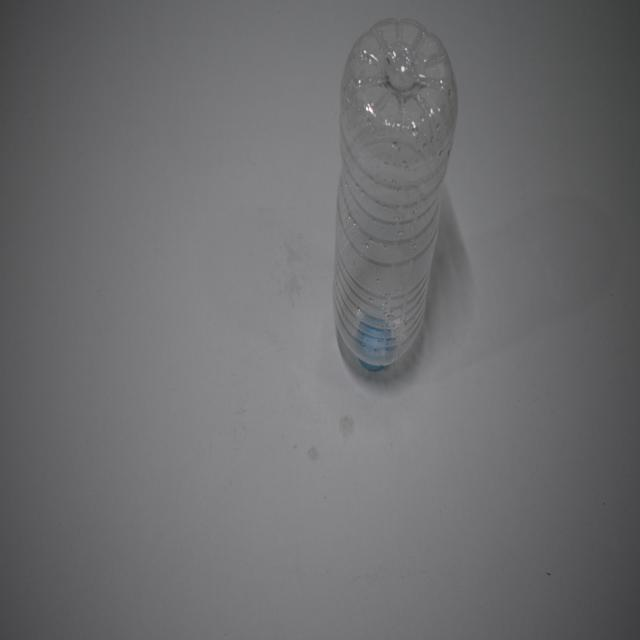empty: (333, 19, 457, 370)
